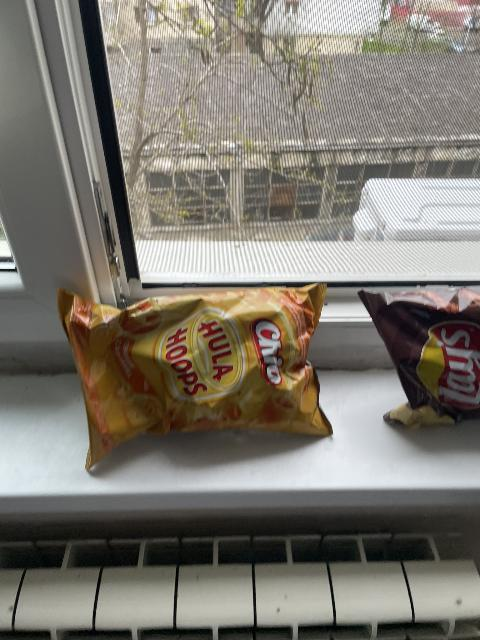Chio Hula Hoops Cheese 70g: (56, 285, 329, 468)
Lays Beef Grilled Ribs 125g: (360, 285, 477, 427)
